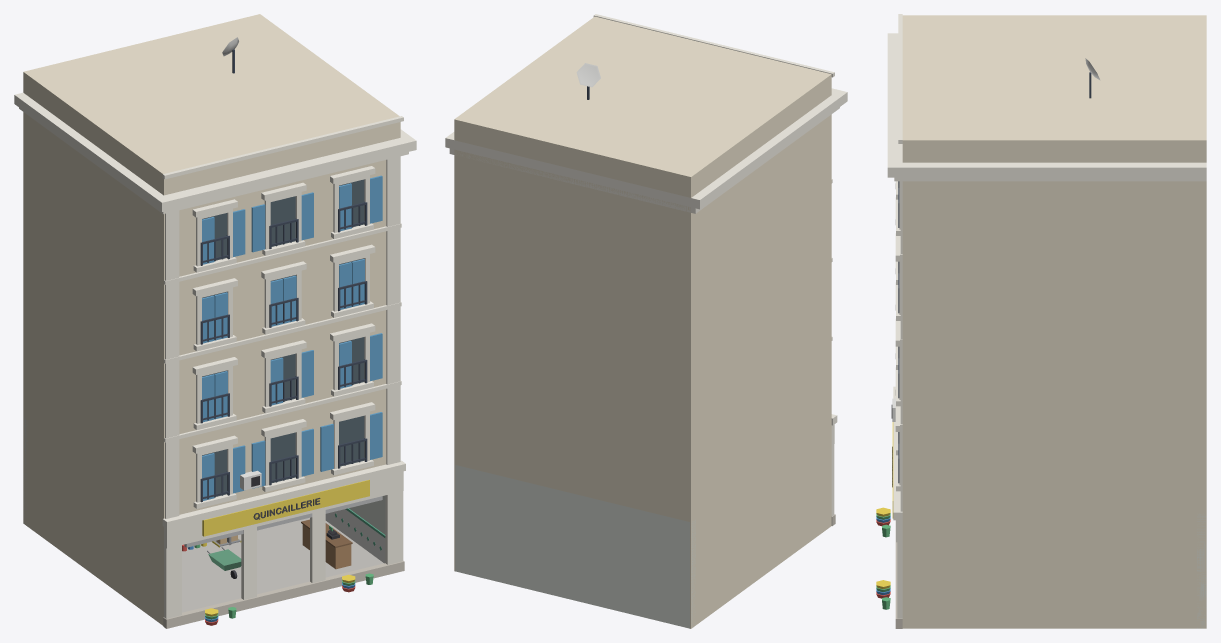
The model's file is shop_tools.fbx.
3 views of the same model, side by side, from view 1: azimuth 30°, elevation 25°; view 2: azimuth 150°, elevation 25°; view 3: azimuth 270°, elevation 25° (orthographic). The views are drawn at different scales.
Visible parts, largest first — view 1: shop_tools; view 2: shop_tools; view 3: shop_tools.
Part boxes in pixels (x1=…): shop_tools: x1=14, y1=14, x2=416, y2=628; shop_tools: x1=445, y1=14, x2=847, y2=628; shop_tools: x1=876, y1=14, x2=1206, y2=628.
Bounding box in the file's own units: 11.5 × 21.03 × 11.96.
